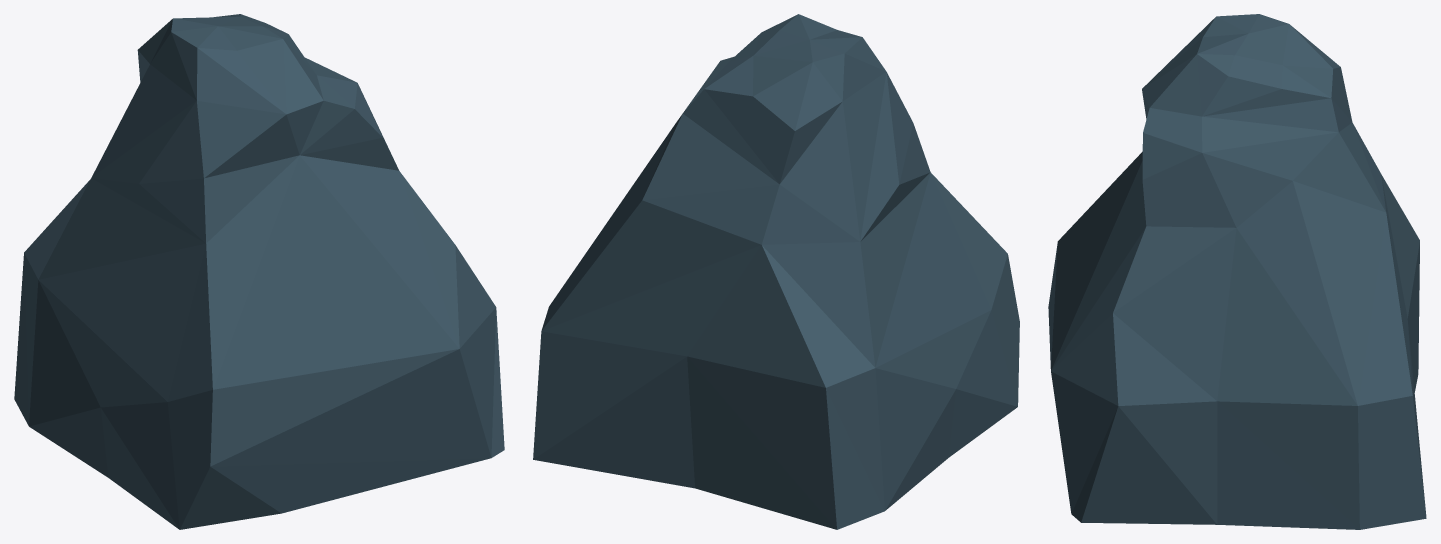
The model's file is RH_Rock07.fbx.
The picture shows the model from 3 angles, left to right: view 1: azimuth 30°, elevation 25°; view 2: azimuth 150°, elevation 25°; view 3: azimuth 270°, elevation 25°; orthographic projection. The views are drawn at different scales.
Parts seen in each view (by area): view 1: RH_Rock07; view 2: RH_Rock07; view 3: RH_Rock07.
Part boxes in pixels (left/top/right/bottom): RH_Rock07: left=14, top=14, right=504, bottom=529; RH_Rock07: left=533, top=14, right=1019, bottom=529; RH_Rock07: left=1048, top=14, right=1426, bottom=529.
Size of the model in its own units: 90.03 by 101 by 87.58.
Materials: 1 (1 with a texture image).
